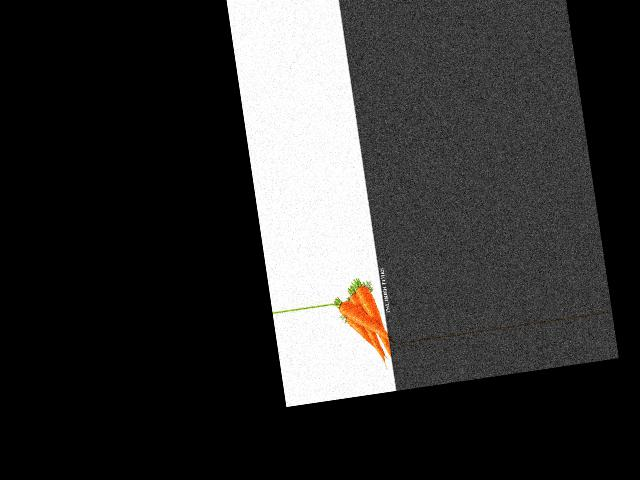carrot: (354, 274, 395, 339)
